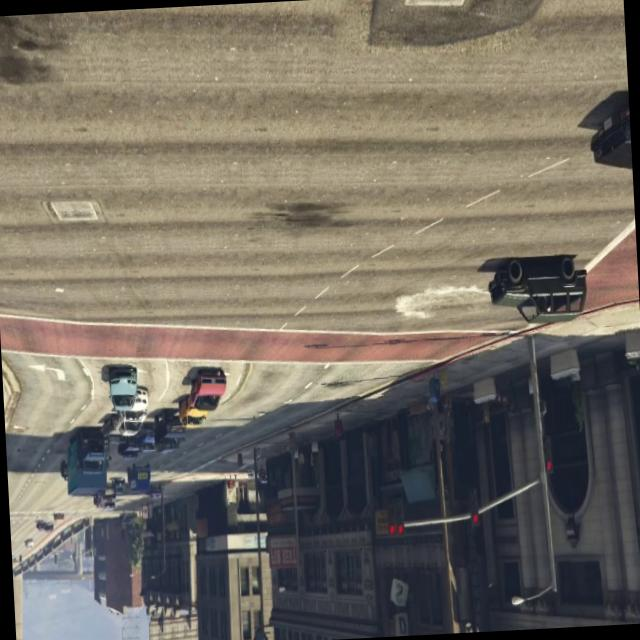Red-Signal: (379, 489, 412, 552), (464, 484, 490, 535), (538, 432, 562, 484)
